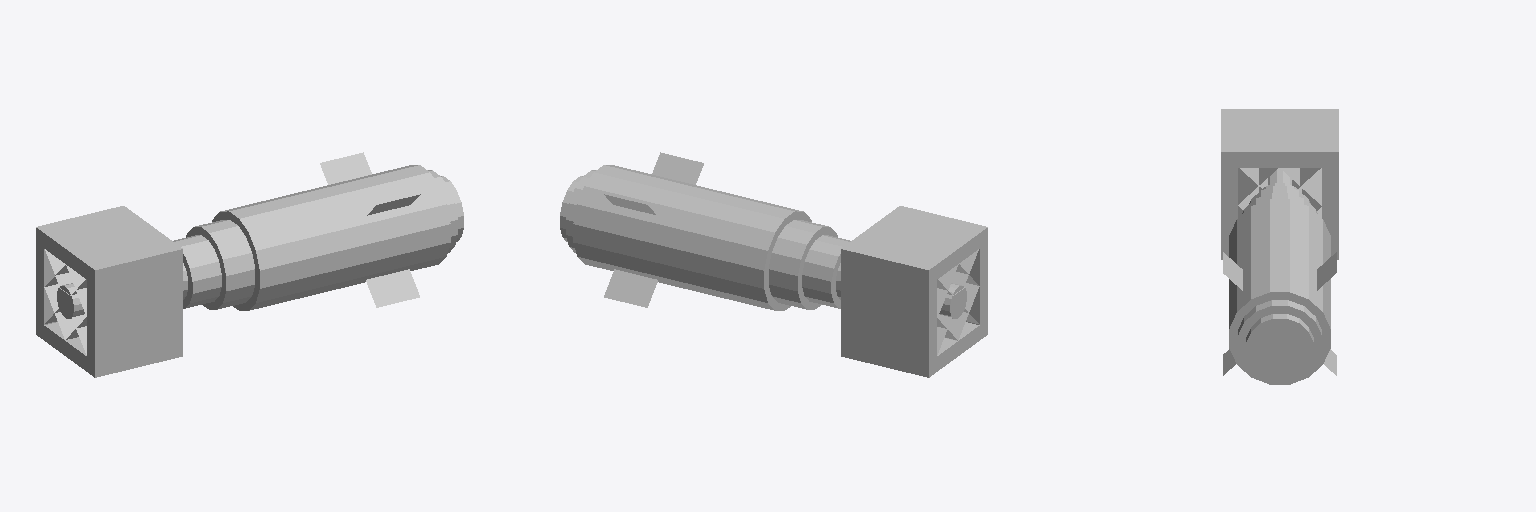
The picture shows the model from 3 angles: view 1: azimuth 30°, elevation 25°; view 2: azimuth 150°, elevation 25°; view 3: azimuth 270°, elevation 25°; orthographic projection.
Parts seen in each view (by area): view 1: hexadecagon, tbleft, cube, tbtop, tbright, tbbottom; view 2: hexadecagon, tbright, cube, tbtop, tbleft, tbbottom; view 3: hexadecagon, cube, tbtop, tbleft, tbright.
Boxes of the visible parts, x1,y1,x2,y2 form: hexadecagon: [57, 165, 463, 318]; tbleft: [87, 243, 182, 377]; cube: [44, 152, 420, 354]; tbtop: [44, 212, 173, 278]; tbright: [36, 206, 131, 339]; tbbottom: [44, 322, 86, 371]; hexadecagon: [560, 165, 966, 318]; tbright: [841, 243, 936, 377]; cube: [604, 152, 979, 354]; tbtop: [850, 212, 979, 278]; tbleft: [892, 206, 987, 339]; tbbottom: [937, 322, 979, 371]; hexadecagon: [1229, 168, 1330, 384]; cube: [1223, 168, 1336, 375]; tbtop: [1238, 109, 1321, 167]; tbleft: [1221, 109, 1237, 259]; tbright: [1322, 109, 1338, 259].
Size of the model in its own units: 3.26 by 0.8754 by 0.875.